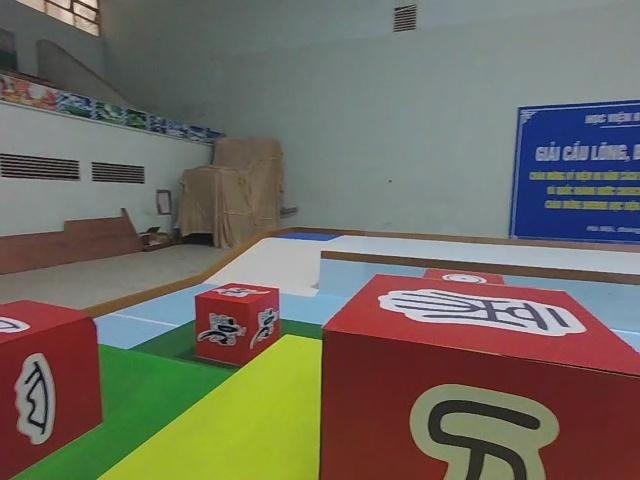R1: (195, 280, 280, 367)
R2 Fake: (319, 270, 640, 480)
R2 Real: (0, 298, 105, 480)
